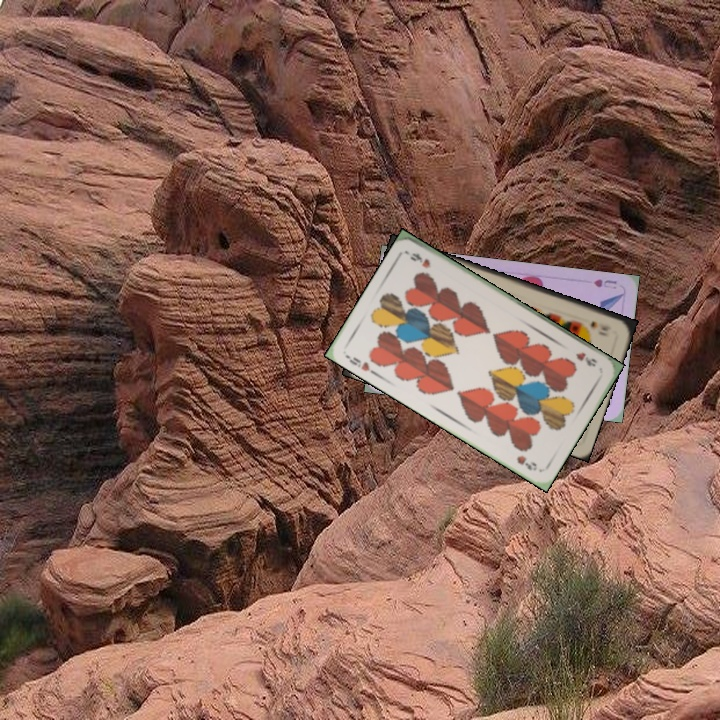H9: (345, 353, 379, 377), (572, 348, 600, 369)
HU: (589, 275, 619, 292)
S10: (586, 317, 613, 334)
